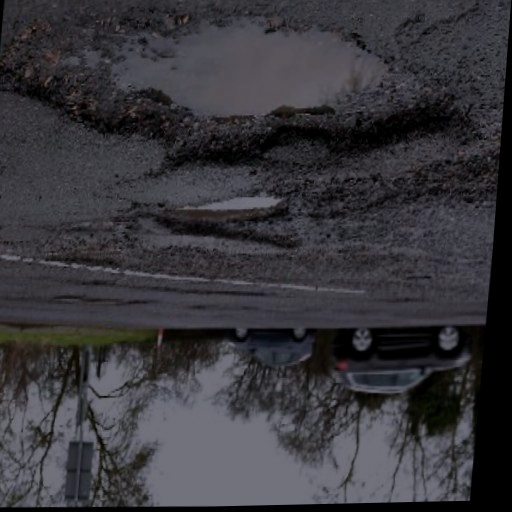pothole: (0, 1, 466, 181), (150, 189, 304, 257), (412, 145, 500, 207), (52, 293, 152, 312), (45, 251, 118, 273)
